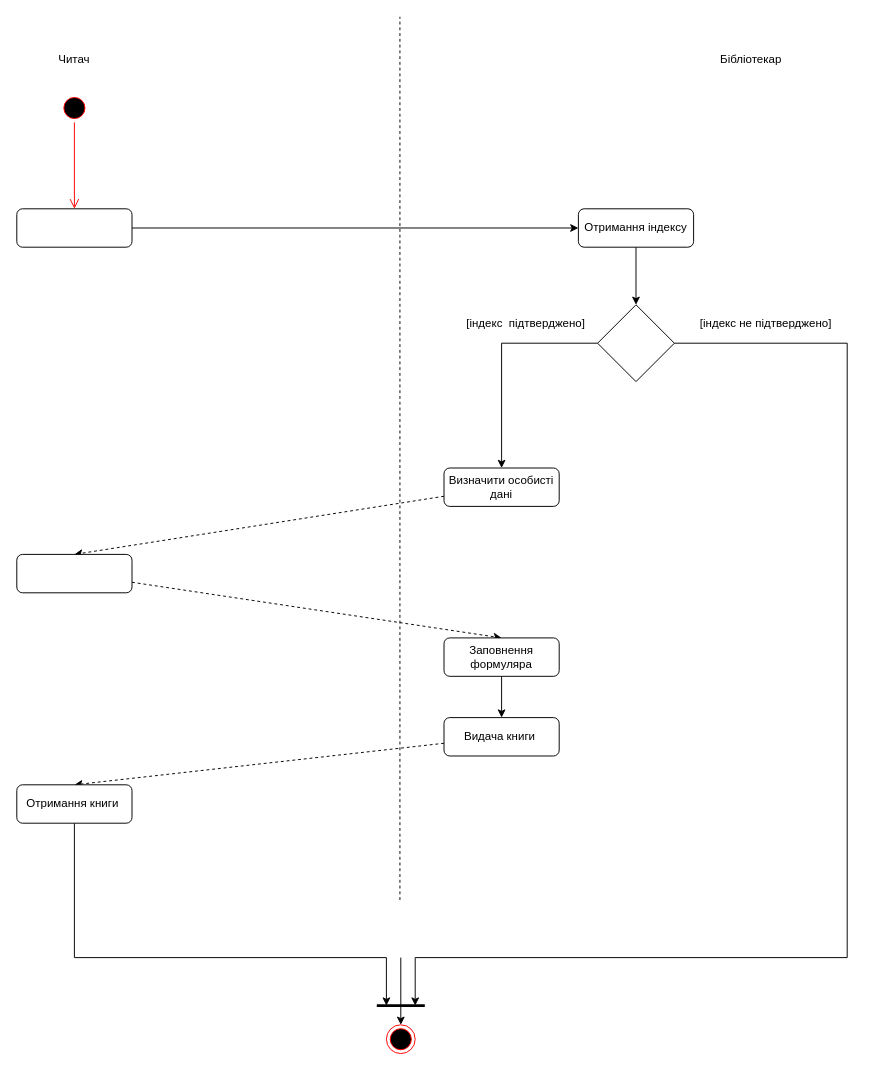
Image size: 872x1070. Some labels were removed from this diagram. Each missing label, with the centre of its shape:
"Передача інформації" belongs at point (74, 573).
"Індекс книги" belongs at point (74, 227).
